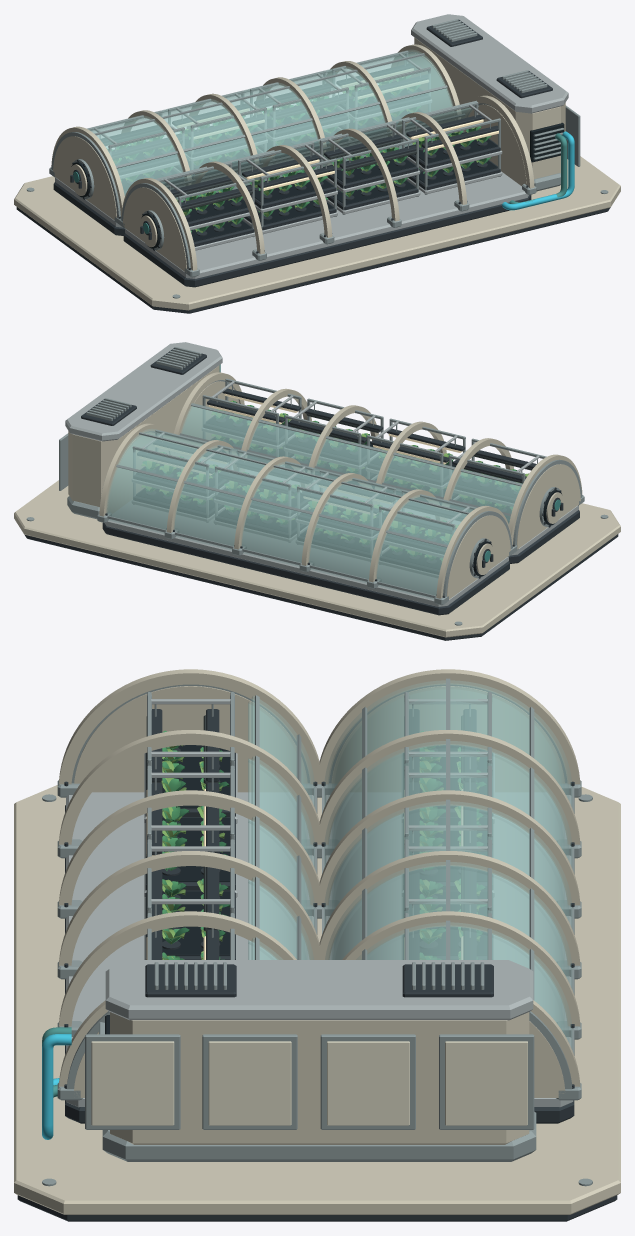
The model's file is p0_b2_greenhouse_cutaway_15kw_8h.glb.
3 views of the same model, one above another, from view 1: azimuth 30°, elevation 25°; view 2: azimuth 150°, elevation 25°; view 3: azimuth 270°, elevation 25° (orthographic). The views are drawn at different scales.
Visible parts, largest first — view 1: Glazing (×2), Chamfered apron, Sectioned front hall, Six structural ribs (×2), East service module, End bulkheads (×2), Seedlings (×8), Hall 1 rack 4, Hall 1 rack 3, Hall 1 rack 2, Glazing frames (×2), Hall 1 rack 1 (+17 smaller); view 2: Glazing (×2), Chamfered apron, Enclosed rear hall, Six structural ribs (×2), East service module, End bulkheads (×2), Glazing frames (×2), Seedlings (×8), Hall 2 rack 4, Hall 2 rack 3, Hall 2 rack 2, Hall 2 rack 1 (+16 smaller); view 3: Chamfered apron, Glazing (×2), Six structural ribs (×2), East service module, Access panels, End bulkheads (×2), Sectioned front hall, Enclosed rear hall, Glazing frames (×2), Seedlings (×6), Rib footings (×2), Hall 1 rack 3 (+14 smaller).
Part boxes in pixels (x1,y1,x2,y2): Glazing (×2): (87, 50, 478, 200); Chamfered apron: (14, 156, 620, 313); Sectioned front hall: (123, 171, 531, 287); Six structural ribs (×2): (51, 44, 534, 270); East service module: (411, 14, 568, 191); End bulkheads (×2): (51, 52, 531, 272); Seedlings (×8): (107, 75, 491, 232); Hall 1 rack 4: (402, 102, 502, 194); Hall 1 rack 3: (320, 122, 420, 214); Hall 1 rack 2: (238, 142, 337, 234); Glazing frames (×2): (94, 53, 476, 187); Hall 1 rack 1: (157, 162, 255, 250); Glazing (×2): (106, 403, 522, 599); Chamfered apron: (14, 480, 620, 640); Enclosed rear hall: (102, 500, 509, 615); Six structural ribs (×2): (99, 372, 582, 598); East service module: (65, 342, 222, 519); End bulkheads (×2): (101, 380, 582, 599); Glazing frames (×2): (107, 403, 522, 597); Seedlings (×8): (142, 400, 528, 560); Hall 2 rack 4: (132, 429, 231, 522); Hall 2 rack 3: (214, 449, 313, 542); Hall 2 rack 2: (296, 470, 395, 561); Hall 2 rack 1: (379, 490, 476, 577); Chamfered apron: (14, 785, 620, 1221); Glazing (×2): (248, 680, 571, 1047); Six structural ribs (×2): (59, 669, 580, 1086); East service module: (99, 960, 536, 1161); Access panels: (85, 1034, 534, 1129); End bulkheads (×2): (66, 684, 572, 1097); Sectioned front hall: (65, 792, 313, 1123); Enclosed rear hall: (325, 792, 574, 1123); Glazing frames (×2): (254, 678, 574, 1055); Seedlings (×6): (161, 730, 486, 944); Rib footings (×2): (57, 780, 581, 1100); Hall 1 rack 3: (144, 839, 237, 959).
Bounding box in the file's own units: 14.4 × 3.12 × 8.77.
